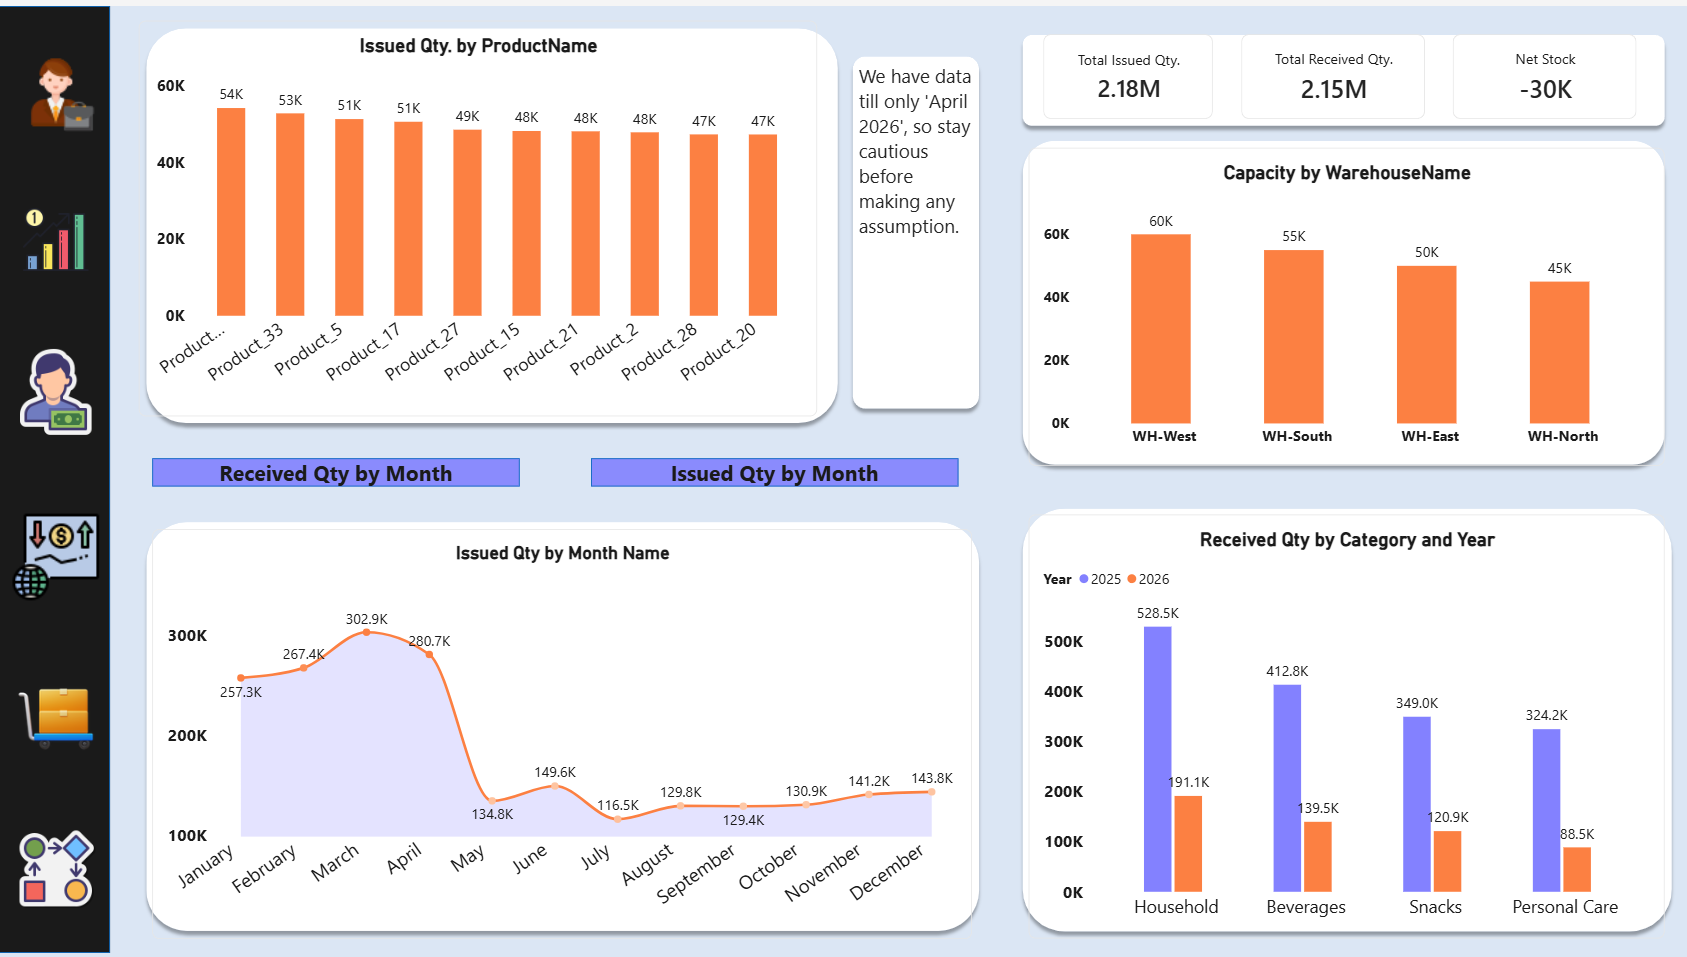

The dashboard page shown, as its layout file describes it:
{"tool":"powerbi","page":{"name":"Inventory dashboard","canvas":[1920,1080],"ordinal":4},"visuals":[{"type":"shape","box":[960,48,160,416],"z":0},{"type":"shape","box":[1152,24,744,120],"z":1000},{"type":"shape","box":[1152,144,744,384],"z":2000},{"type":"shape","box":[160,16,800,464],"z":3000},{"type":"columnChart","fields":{"Category":["Dim_Warehouse.WarehouseName"],"Y":["Sum(Dim_Warehouse.Capacity)"]},"box":[1168,160,720,360],"z":4000},{"type":"shape","box":[1152,560,752,496],"z":5000},{"type":"shape","box":[160,576,960,480],"z":6000},{"type":"areaChart","fields":{"Category":["Dates.Month Name"],"Y":["Sum(Fact_Inventory.IssuedQty)"]},"box":[176,592,928,464],"z":8000},{"type":"clusteredColumnChart","fields":{"Category":["DimProduct.Category"],"Series":["Dates.Year"],"Y":["Sum(Fact_Inventory.ReceivedQty)"]},"box":[1168,576,720,480],"z":9000},{"type":"cardVisual","fields":{"Data":["Fact_Inventory.Total Issued Qty."]},"box":[1184,32,192,96],"z":10000},{"type":"cardVisual","fields":{"Data":["Fact_Inventory.Average Opening Stock"]},"box":[1408,32,208,96],"z":11000},{"type":"cardVisual","fields":{"Data":["Fact_Inventory.Net Stock"]},"box":[1648,32,208,96],"z":12000},{"type":"clusteredColumnChart","fields":{"Category":["DimProduct.ProductName"],"Y":["Fact_Inventory.Total Issues Qty."]},"box":[160,16,768,448],"z":13000},{"type":"shape","box":[672,512,416,32],"z":14000},{"type":"shape","box":[176,512,416,32],"z":15000},{"type":"textbox","box":[976,64,128,368],"z":16000},{"type":"shape","box":[0,0,128,1072],"z":17000},{"type":"image","box":[2.6,217.6,128,98],"z":18000},{"type":"image","box":[2.6,572.8,128,101],"z":19000},{"type":"image","box":[2.6,387.2,128,101],"z":20000},{"type":"image","box":[2.6,48,128,99],"z":21000},{"type":"image","box":[2.6,758.4,128,99],"z":22000},{"type":"image","box":[2.6,928,128,98],"z":23000}]}

Visuals, with their boxes on the page's 1920x1080 design canvas (x1, y1, x2, y2). These are canvas units, not pixel positions in the 1687x957 screenshot, which may show the page scaled, cropped or inside an application window:
shape: select_region(960, 48, 1120, 464)
shape: select_region(1152, 24, 1896, 144)
shape: select_region(1152, 144, 1896, 528)
shape: select_region(160, 16, 960, 480)
columnChart - Dim_Warehouse.WarehouseName x Sum(Dim_Warehouse.Capacity): select_region(1168, 160, 1888, 520)
shape: select_region(1152, 560, 1904, 1056)
shape: select_region(160, 576, 1120, 1056)
areaChart - Dates.Month Name x Sum(Fact_Inventory.IssuedQty): select_region(176, 592, 1104, 1056)
clusteredColumnChart - DimProduct.Category x Dates.Year: select_region(1168, 576, 1888, 1056)
cardVisual - Fact_Inventory.Total Issued Qty.: select_region(1184, 32, 1376, 128)
cardVisual - Fact_Inventory.Average Opening Stock: select_region(1408, 32, 1616, 128)
cardVisual - Fact_Inventory.Net Stock: select_region(1648, 32, 1856, 128)
clusteredColumnChart - DimProduct.ProductName x Fact_Inventory.Total Issues Qty.: select_region(160, 16, 928, 464)
shape: select_region(672, 512, 1088, 544)
shape: select_region(176, 512, 592, 544)
textbox: select_region(976, 64, 1104, 432)
shape: select_region(0, 0, 128, 1072)
image: select_region(3, 218, 131, 316)
image: select_region(3, 573, 131, 674)
image: select_region(3, 387, 131, 488)
image: select_region(3, 48, 131, 147)
image: select_region(3, 758, 131, 857)
image: select_region(3, 928, 131, 1026)
